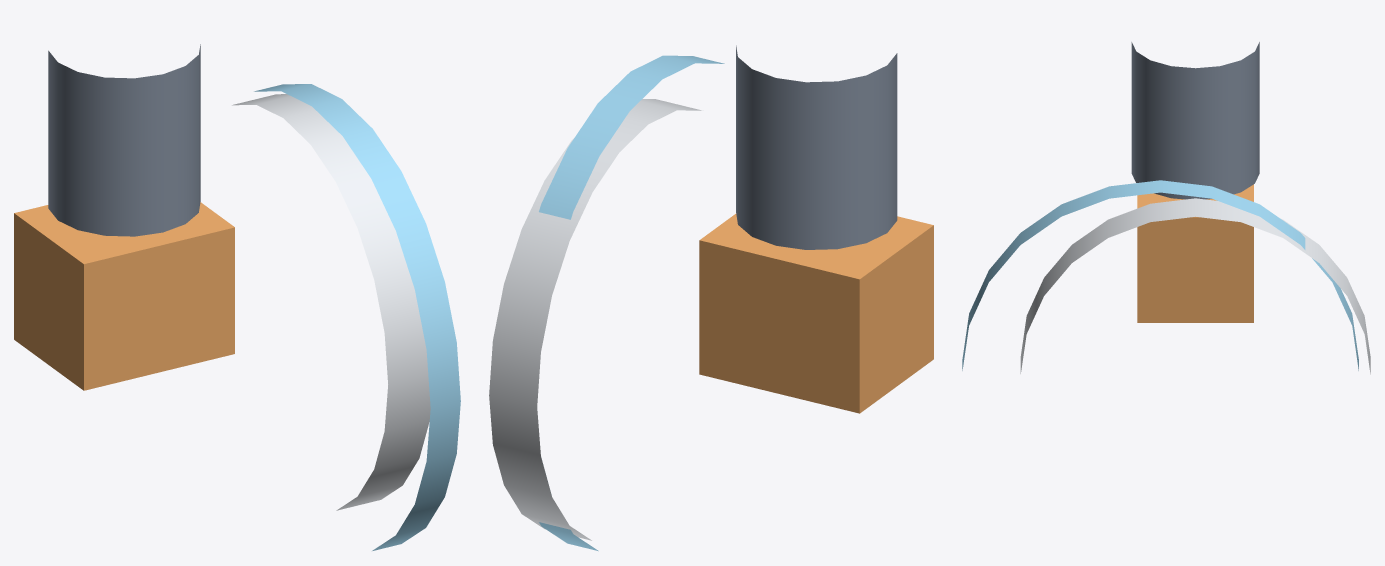
File: steam_turbines_nozzles.glb
The picture shows the model from 3 angles, left to right: view 1: azimuth 30°, elevation 25°; view 2: azimuth 150°, elevation 25°; view 3: azimuth 270°, elevation 25°; orthographic projection. The views are drawn at different scales.
Visible parts, largest first — view 1: ConvergentDivergentNozzleBlock, SteamChestThrottleValveBody, CurtisVelocityCompoundedRotor, ShroudedRotorBladingStage; view 2: ConvergentDivergentNozzleBlock, SteamChestThrottleValveBody, CurtisVelocityCompoundedRotor, ShroudedRotorBladingStage; view 3: SteamChestThrottleValveBody, ConvergentDivergentNozzleBlock, CurtisVelocityCompoundedRotor, ShroudedRotorBladingStage.
Boxes of the visible parts, x1,y1,x2,y2 form: ConvergentDivergentNozzleBlock: (14,202,234,390); SteamChestThrottleValveBody: (48,44,200,236); CurtisVelocityCompoundedRotor: (232,94,430,510); ShroudedRotorBladingStage: (254,84,460,550); ConvergentDivergentNozzleBlock: (699,213,933,413); SteamChestThrottleValveBody: (736,45,897,249); CurtisVelocityCompoundedRotor: (489,99,701,540); ShroudedRotorBladingStage: (539,55,724,551); SteamChestThrottleValveBody: (1131,42,1259,199); ConvergentDivergentNozzleBlock: (1137,184,1253,322); CurtisVelocityCompoundedRotor: (1020,198,1370,374); ShroudedRotorBladingStage: (962,180,1358,370).
Bounding box in the file's own units: 0.925 × 1.63 × 1.4.
